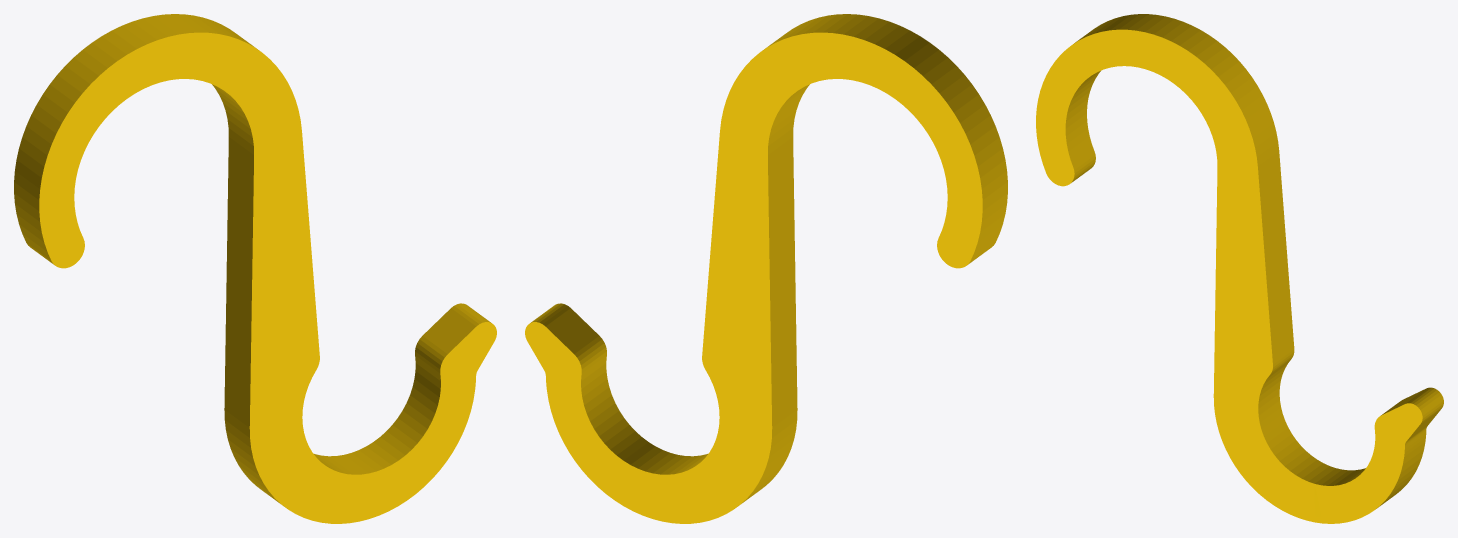
File: Kitchen_Hook.fbx
3 renders of one model, left to right at view 1: azimuth 30°, elevation 25°; view 2: azimuth 150°, elevation 25°; view 3: azimuth 330°, elevation 25°, orthographic. The views are drawn at different scales.
Parts seen in each view (by area): view 1: imagetostl_mesh0; view 2: imagetostl_mesh0; view 3: imagetostl_mesh0.
Boxes of the visible parts, box(x1,y1,x2,y2) form: imagetostl_mesh0: box(14, 14, 496, 523); imagetostl_mesh0: box(525, 14, 1007, 523); imagetostl_mesh0: box(1036, 14, 1443, 523).
Size of the model in its own units: 5217 by 5789 by 500.
